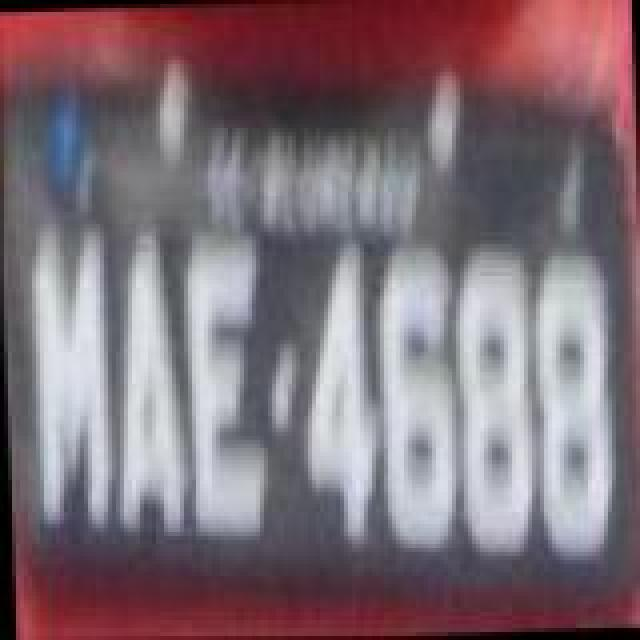4: (296, 230, 384, 550)
6: (368, 240, 456, 556)
8: (528, 246, 620, 562), (448, 238, 536, 562)
A: (104, 222, 192, 542)
E: (182, 234, 274, 546)
M: (24, 218, 112, 534)
